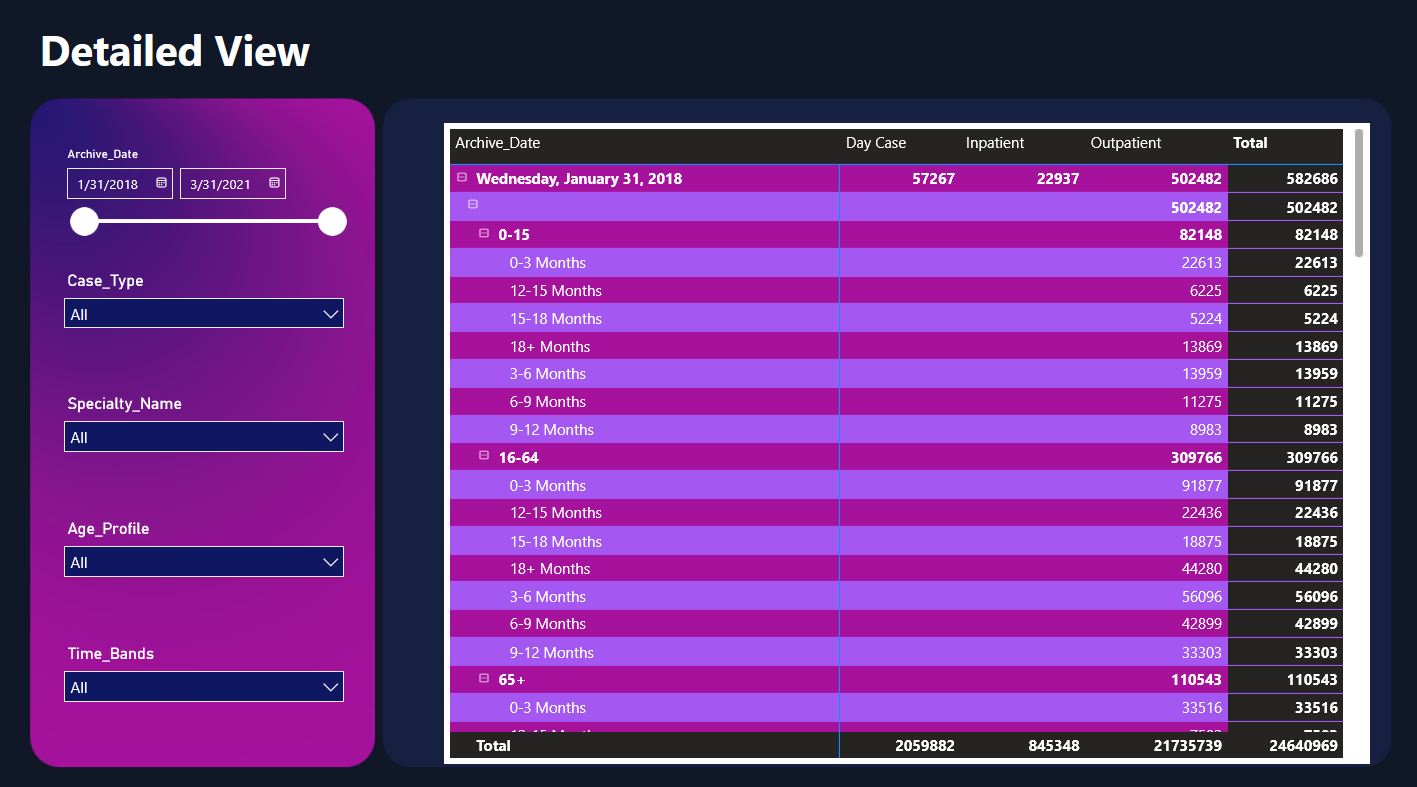

Layout of this report page (visuals, bound fields, positions):
{"tool":"powerbi","page":{"name":"Details","canvas":[1280,720],"ordinal":1},"visuals":[{"type":"textbox","box":[32,16,256,64],"z":0},{"type":"slicer","fields":{"Values":["All_Data.Case_Type"]},"box":[48,240,272,96],"z":1000},{"type":"slicer","fields":{"Values":["All_Data.Specialty_Name"]},"box":[48,352,272,96],"z":2000},{"type":"slicer","fields":{"Values":["All_Data.Age_Profile"]},"box":[48,464,272,96],"z":3000},{"type":"slicer","fields":{"Values":["All_Data.Time_Bands"]},"box":[48,576,272,96],"z":4000},{"type":"pivotTable","fields":{"Rows":["All_Data.Archive_Date","All_Data.Specialty_Name","All_Data.Age_Profile","All_Data.Time_Bands"],"Columns":["All_Data.Case_Type"],"Values":["Sum(All_Data.Total)"]},"box":[400,112,832,576],"z":5000},{"type":"slicer","fields":{"Values":["All_Data.Archive_Date"]},"box":[48,128,272,96],"z":6000}]}

Visuals, with their boxes in screenshot pixels (x1, y1, x2, y2), scaled from the page's 1280x720 canvas onto the 1417x787 screenshot:
textbox: 35,17,319,87
slicer - All_Data.Case_Type: 53,262,354,367
slicer - All_Data.Specialty_Name: 53,385,354,490
slicer - All_Data.Age_Profile: 53,507,354,612
slicer - All_Data.Time_Bands: 53,630,354,735
pivotTable - All_Data.Archive_Date x All_Data.Specialty_Name: 443,122,1364,752
slicer - All_Data.Archive_Date: 53,140,354,245
